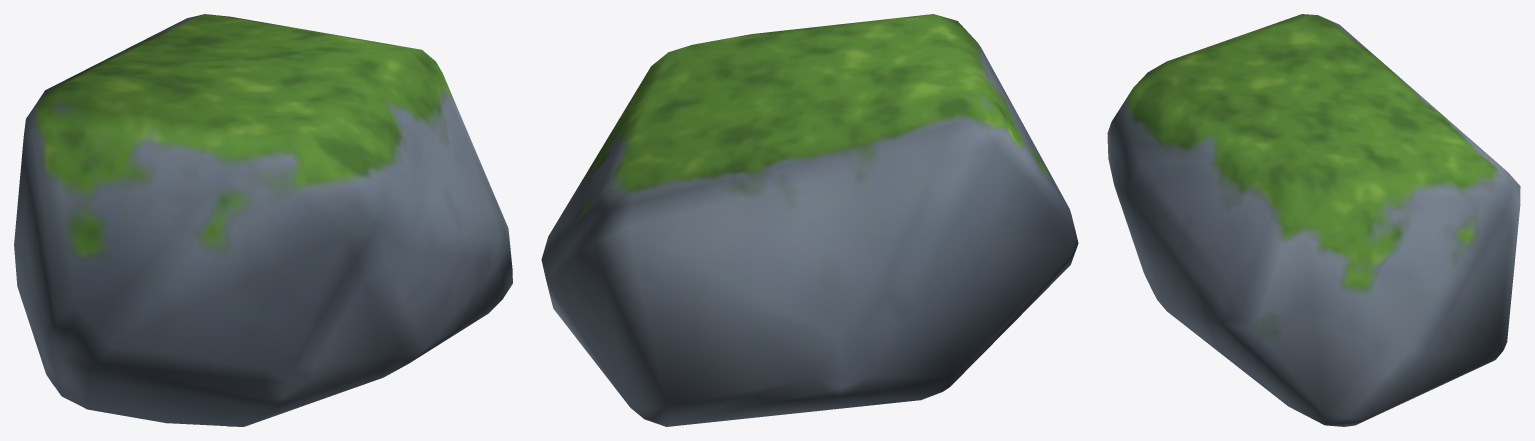
The model's file is rock_e_lod1.glb.
The picture shows the model from 3 angles, left to right: view 1: azimuth 30°, elevation 25°; view 2: azimuth 150°, elevation 25°; view 3: azimuth 270°, elevation 25°; orthographic projection. The views are drawn at different scales.
Parts seen in each view (by area): view 1: rock_e_lod1; view 2: rock_e_lod1; view 3: rock_e_lod1.
Part boxes in pixels (<box>): rock_e_lod1: <box>14,14,512,426</box>; rock_e_lod1: <box>541,14,1078,426</box>; rock_e_lod1: <box>1107,14,1520,426</box>.
Size of the model in its own units: 2.35 by 1.54 by 2.1.
Materials: 1 (1 with a texture image).
